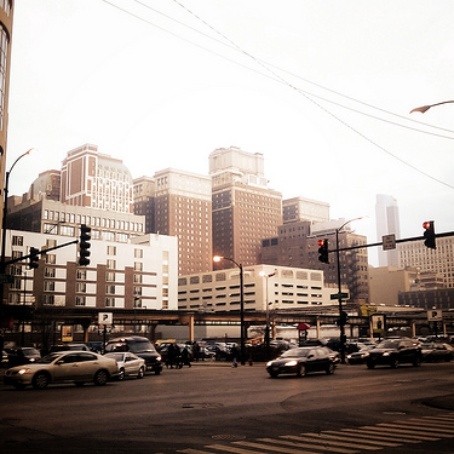building: (1, 228, 168, 309), (205, 146, 282, 265), (367, 196, 454, 293), (12, 149, 136, 216), (146, 165, 217, 281), (289, 195, 365, 301), (183, 257, 326, 313), (14, 205, 154, 240)
car: (11, 349, 112, 388), (358, 335, 428, 377), (262, 342, 340, 379), (110, 348, 164, 382)
crosswalk: (190, 410, 454, 454)
sky: (1, 1, 449, 217)
street: (16, 374, 454, 454)
